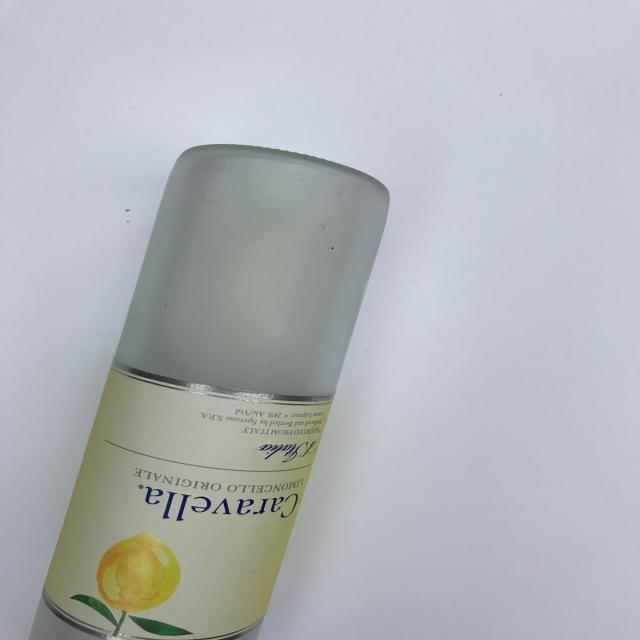glass: (22, 144, 391, 640)
